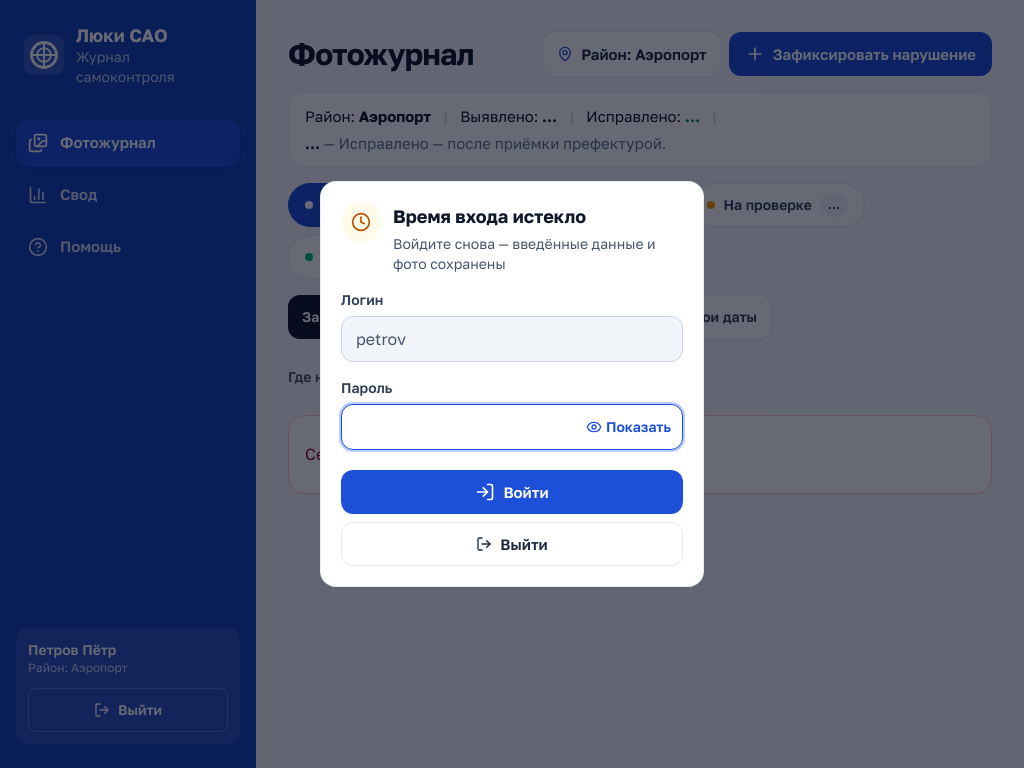
Test: ReloginDialog › 403 «Сначала смените пароль…» показывается в окне со ссылкой на журнал обходов
The width and height of the screenshot is (1024, 768).
Type "secret" into the password field labelled "Пароль" at (512, 427), box [341, 404, 683, 450]
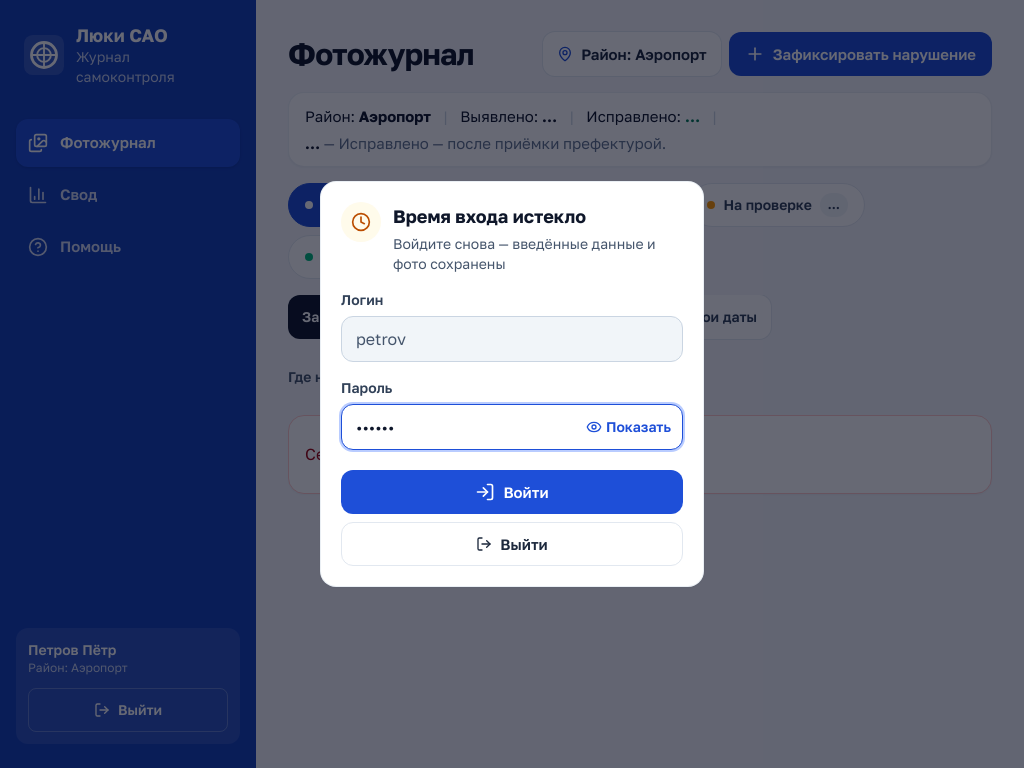
Click the button "Войти" at (512, 492), box [341, 470, 683, 514]
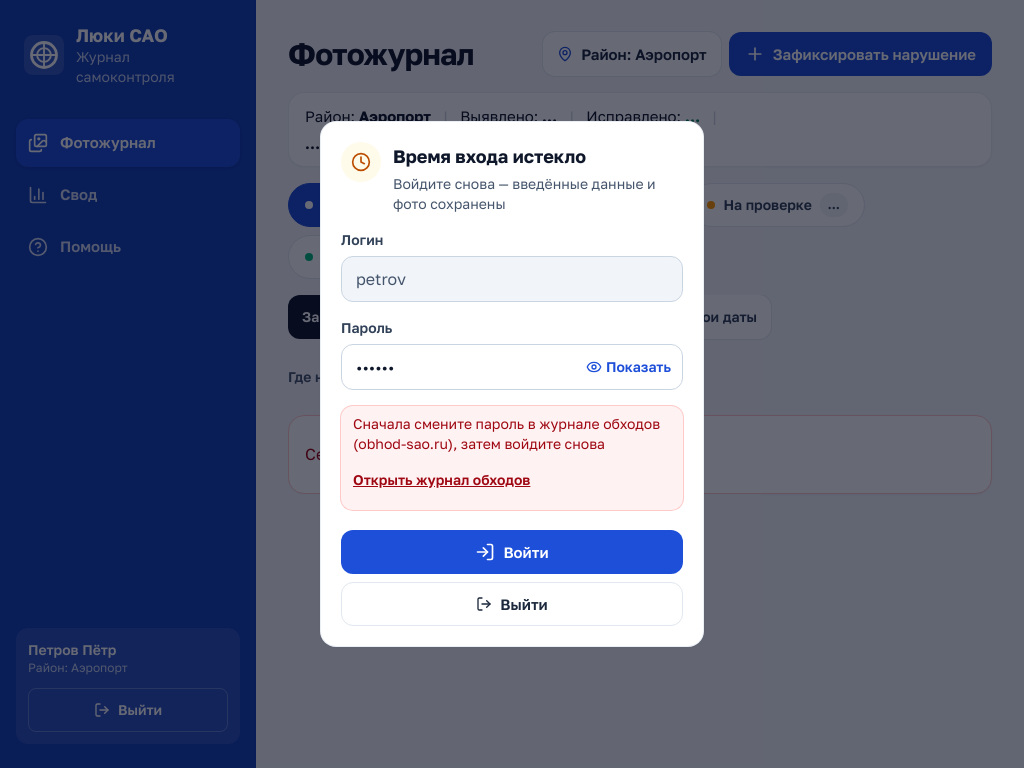
Expected: the message shows "Сначала смените пароль в журнале обходов", [353, 415, 660, 452]
